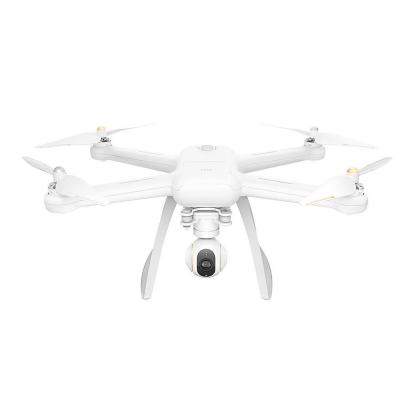drone: (13, 112, 406, 243)
